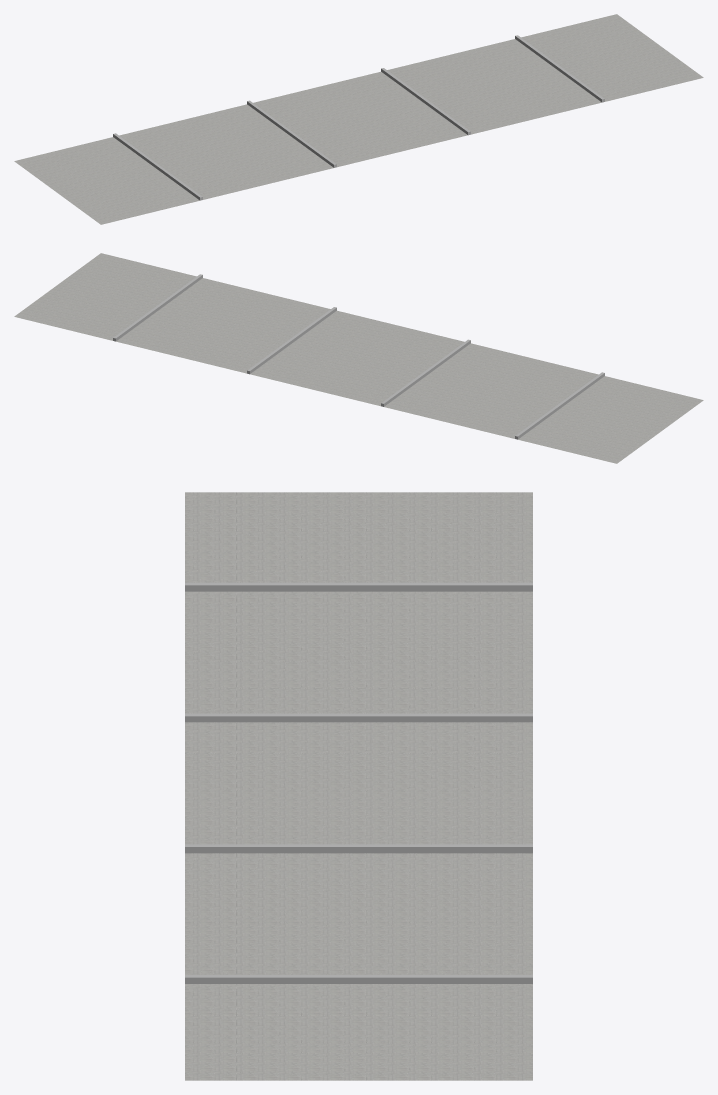
The model's file is SpaceStation_Ceil.fbx.
3 renders of one model, top to bottom at view 1: azimuth 30°, elevation 25°; view 2: azimuth 150°, elevation 25°; view 3: azimuth 270°, elevation 25°, orthographic. The views are drawn at different scales.
Visible parts, largest first — view 1: SpaceStation_Ceil; view 2: SpaceStation_Ceil; view 3: SpaceStation_Ceil.
Boxes of the visible parts, x1,y1,x2,y2 form: SpaceStation_Ceil: (14,14,703,224); SpaceStation_Ceil: (14,253,703,463); SpaceStation_Ceil: (185,492,532,1080).
Bounding box in the file's own units: 2000 × 9.8 × 500.
